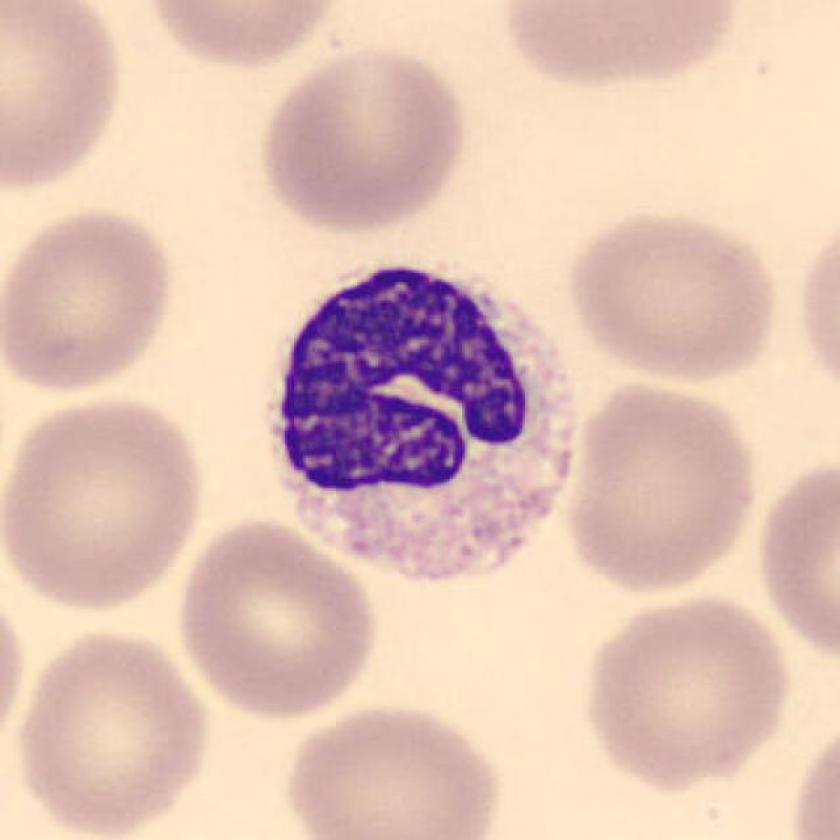neutrophil: (273, 256, 575, 580)
